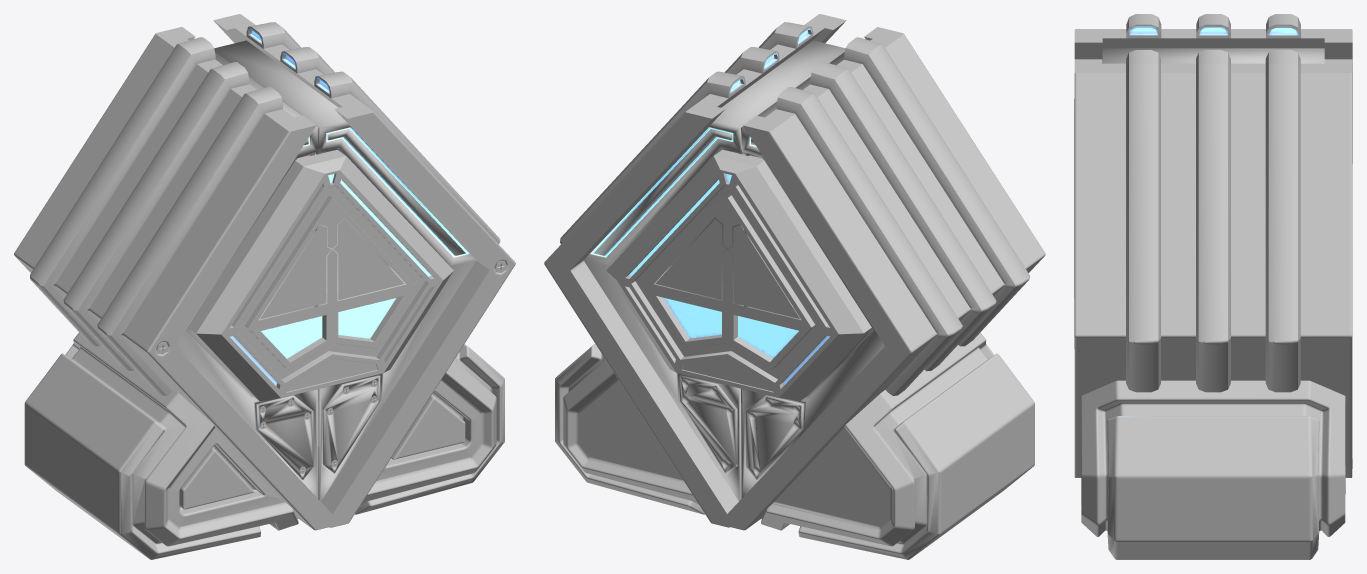
File: SupplyDropShip.fbx
3 renders of one model, left to right at view 1: azimuth 30°, elevation 25°; view 2: azimuth 150°, elevation 25°; view 3: azimuth 270°, elevation 25°, orthographic. The views are drawn at different scales.
Visible parts, largest first — view 1: OutsideRig.L, Main.R, PanelBack; view 2: OutsideRig.L, Main.R, PanelFront; view 3: Main.R, OutsideRig.L.
Part boxes in pixels (bbox=[...]): OutsideRig.L: bbox=[14, 27, 332, 559]; Main.R: bbox=[213, 14, 515, 527]; PanelBack: bbox=[188, 150, 453, 401]; OutsideRig.L: bbox=[726, 27, 1045, 559]; Main.R: bbox=[544, 14, 846, 527]; PanelFront: bbox=[606, 149, 871, 400]; Main.R: bbox=[1074, 50, 1352, 559]; OutsideRig.L: bbox=[1074, 14, 1352, 468].
Size of what is drawn, in the model's own units: 169 by 179 by 100.
